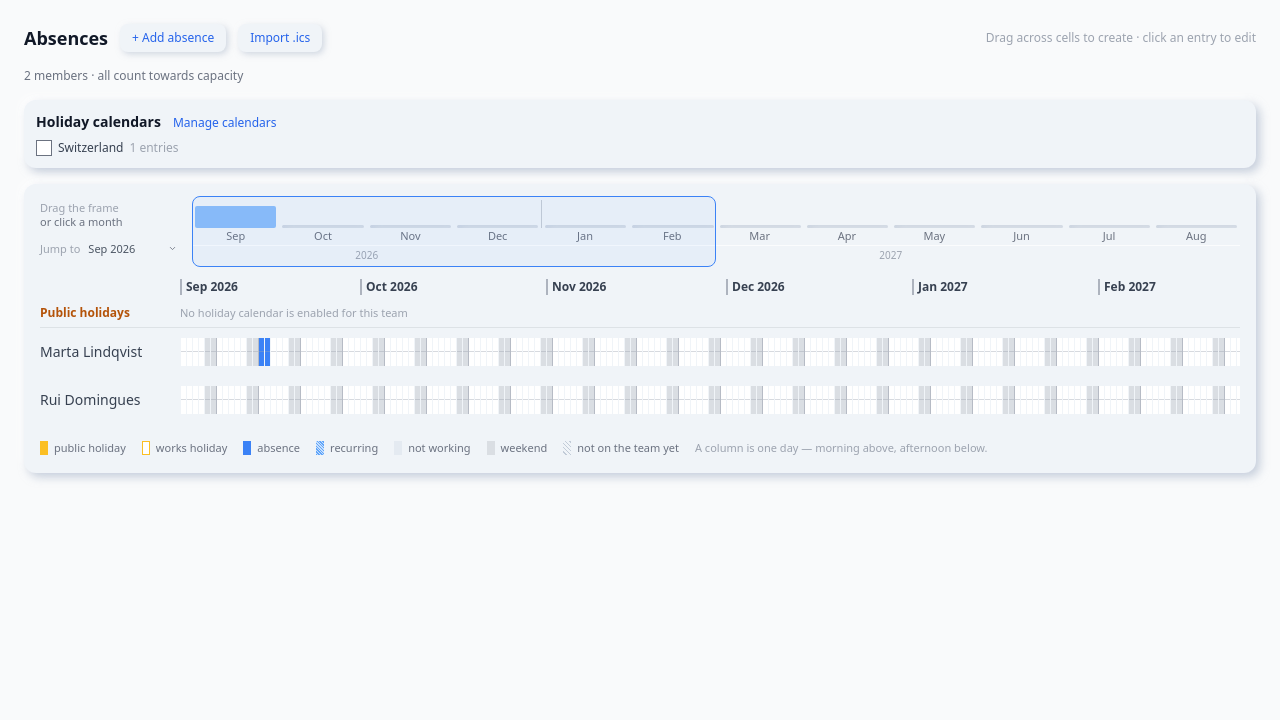
it: AbsencesView › sends an edit conflict to the banner and closes the form over it
Expected: the table named "absences by member" is shown, [40,328,1240,424]
Click the cell titled "Marta Lindqvist · 2026-09-14 am": (262, 345) [259,338,264,352]
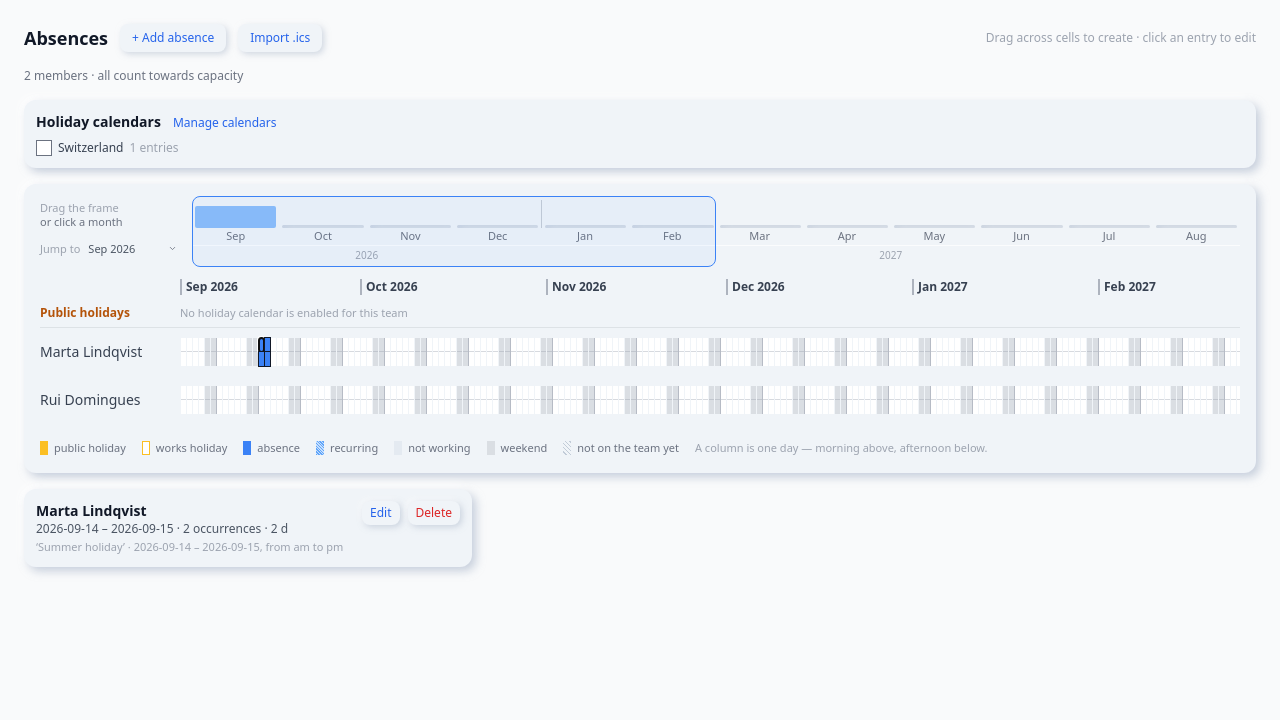
Click the button with aria-label "edit absence for Marta": (381, 512) [362,500,400,524]
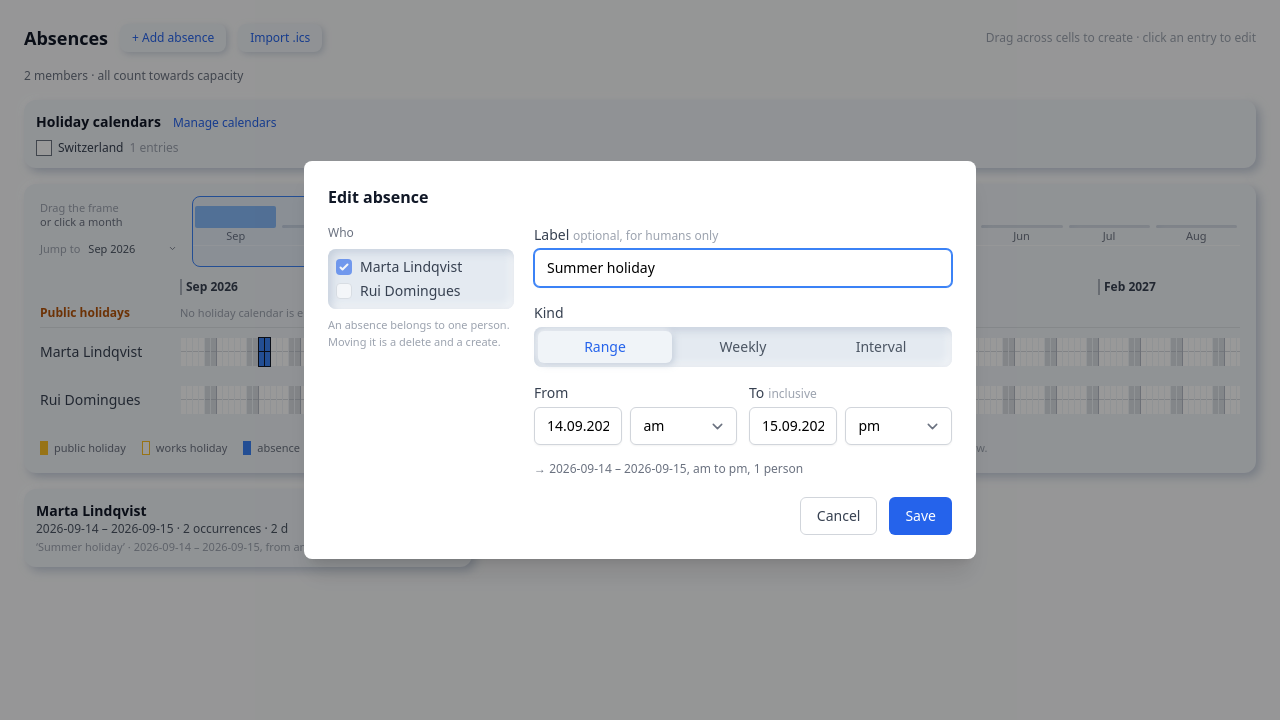
Click the button "Save": (921, 516) [889,497,952,535]
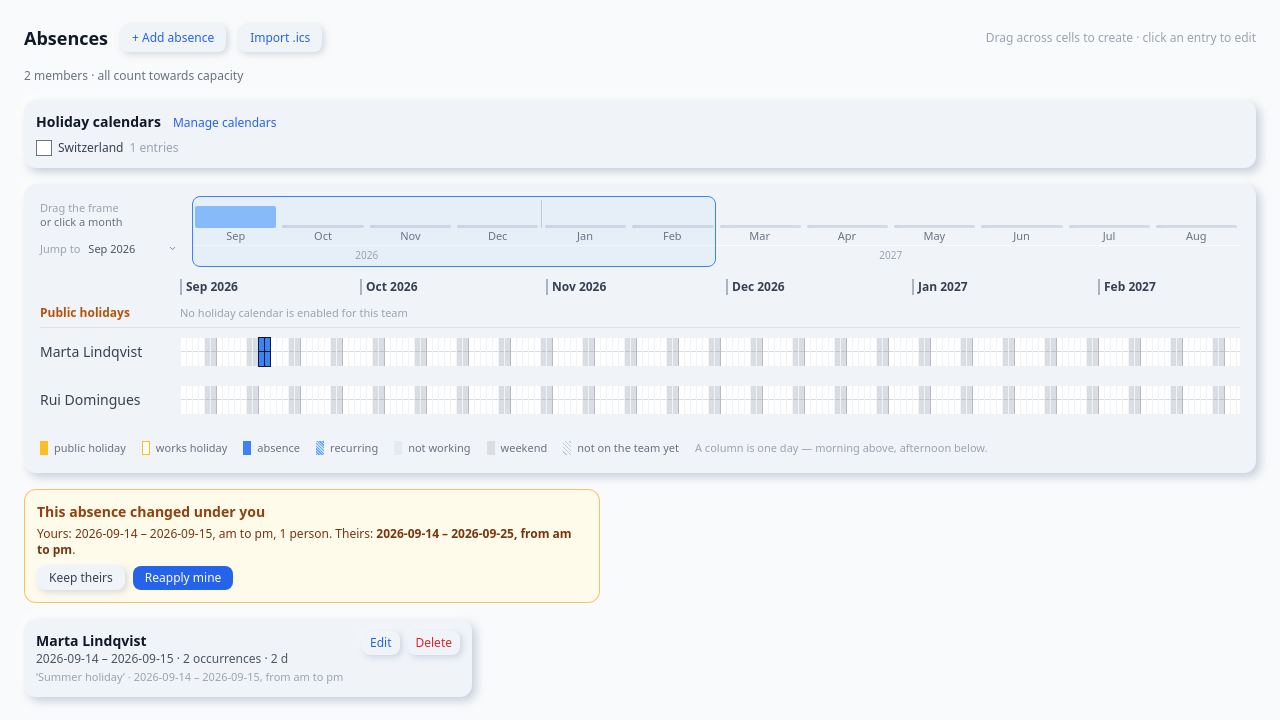
Expected: the dialog is gone
Expected: the text "This absence changed under you" is shown, [37,502,265,520]
Expected: the text "2026-09-14 – 2026-09-25, from am to pm" is shown, [37,524,572,558]
